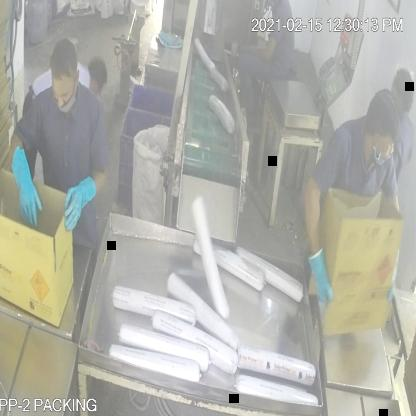glove: (8, 136, 44, 236), (300, 236, 342, 318), (59, 166, 96, 233)
no_glove: (239, 37, 281, 66)
